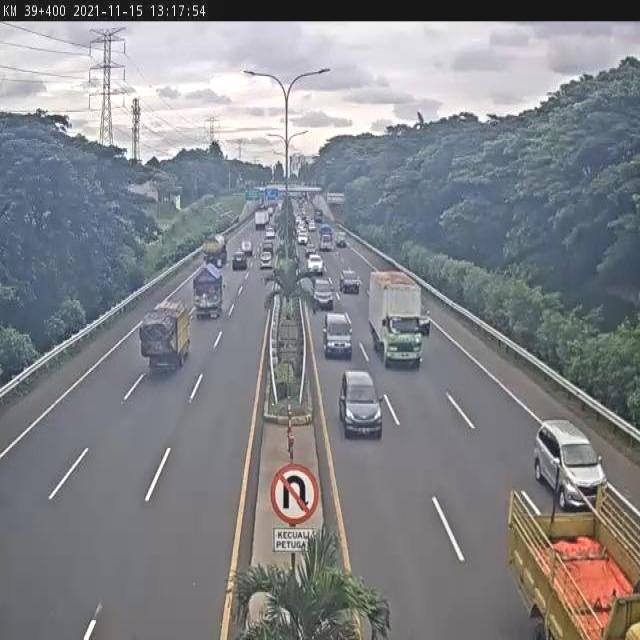Car: (534, 416, 597, 511), (340, 363, 385, 456), (322, 306, 353, 372), (311, 267, 334, 319), (341, 250, 364, 300), (306, 238, 321, 280), (259, 241, 276, 277), (229, 247, 249, 275), (295, 217, 308, 256), (336, 221, 352, 250)
Truck: (485, 486, 640, 640), (365, 270, 429, 370), (140, 285, 190, 385), (192, 265, 229, 327), (192, 228, 235, 270), (252, 197, 274, 238)
